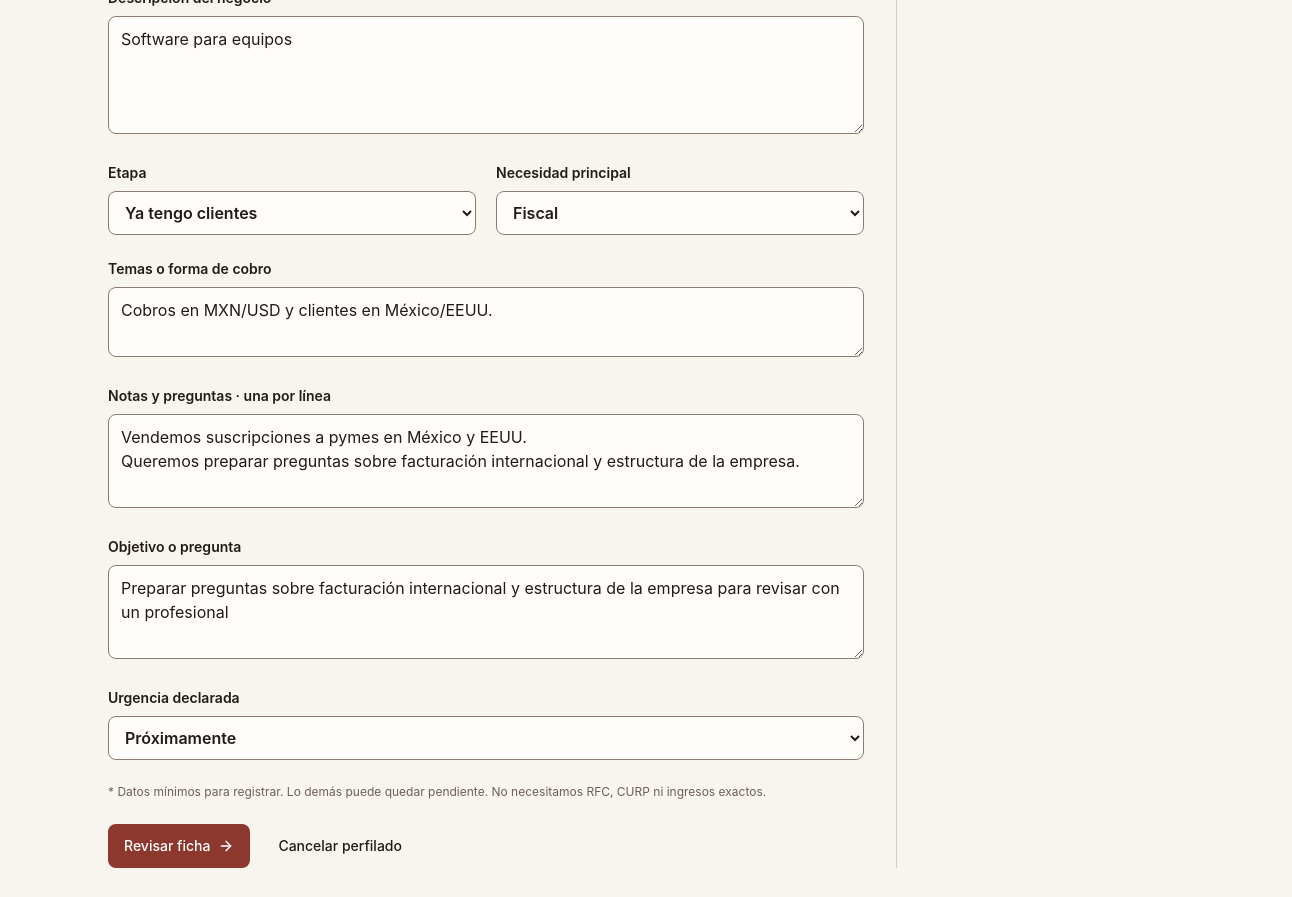
Test: starting, replying and retrying admission with valid fields never submit the intake; only review advances it
The width and height of the screenshot is (1292, 897).
Earlier steps of the test are not shown.
(page scrolled)
Click the button "Revisar ficha".
click(179, 846)  # box x1=108 y1=824 x2=250 y2=868
(page scrolled)
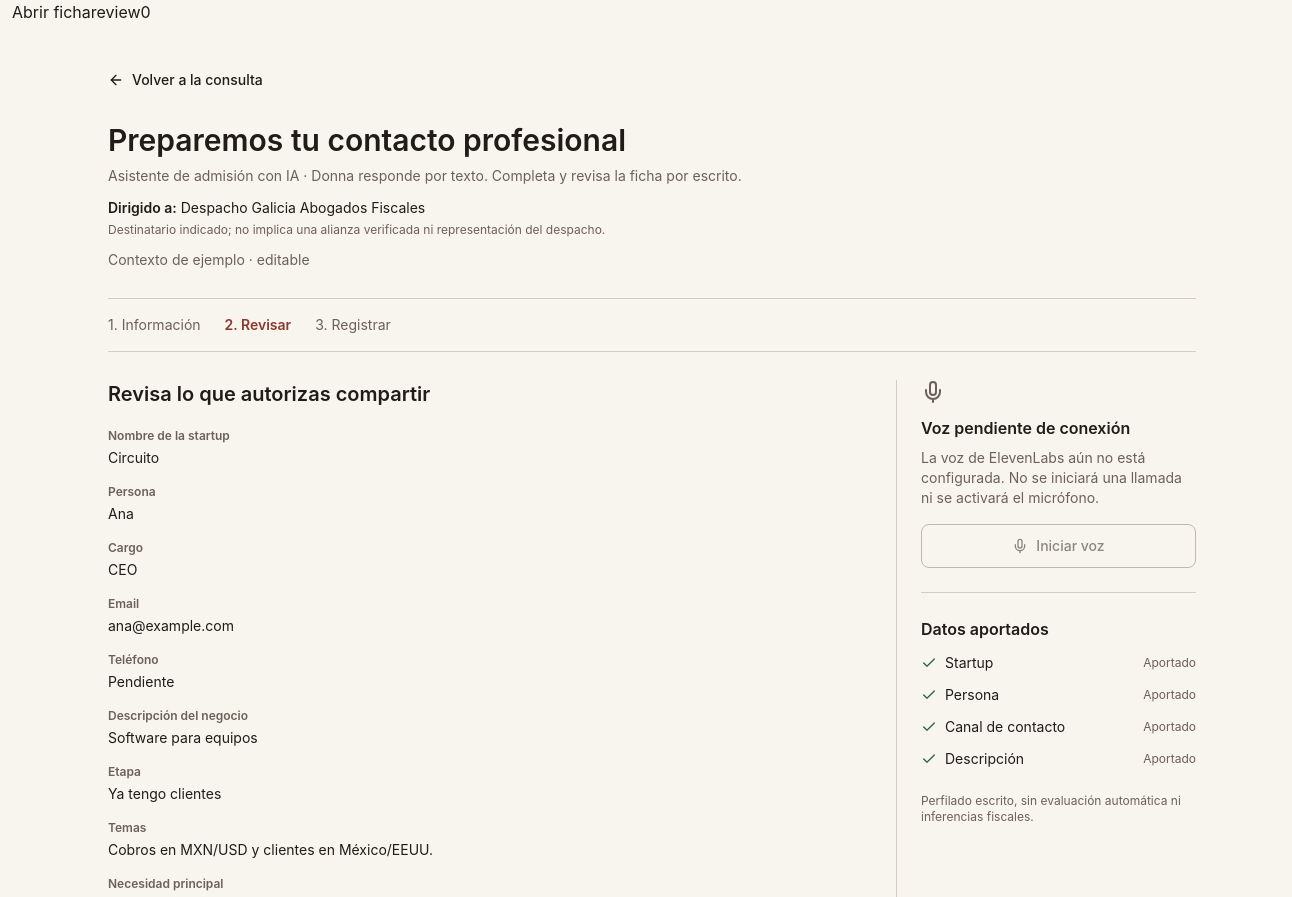
Expected: the text with test id "lead-count" reads "0", x1=141 y1=2 x2=151 y2=22
Expected: the text with test id "draft-state" reads "review", x1=91 y1=2 x2=141 y2=22
